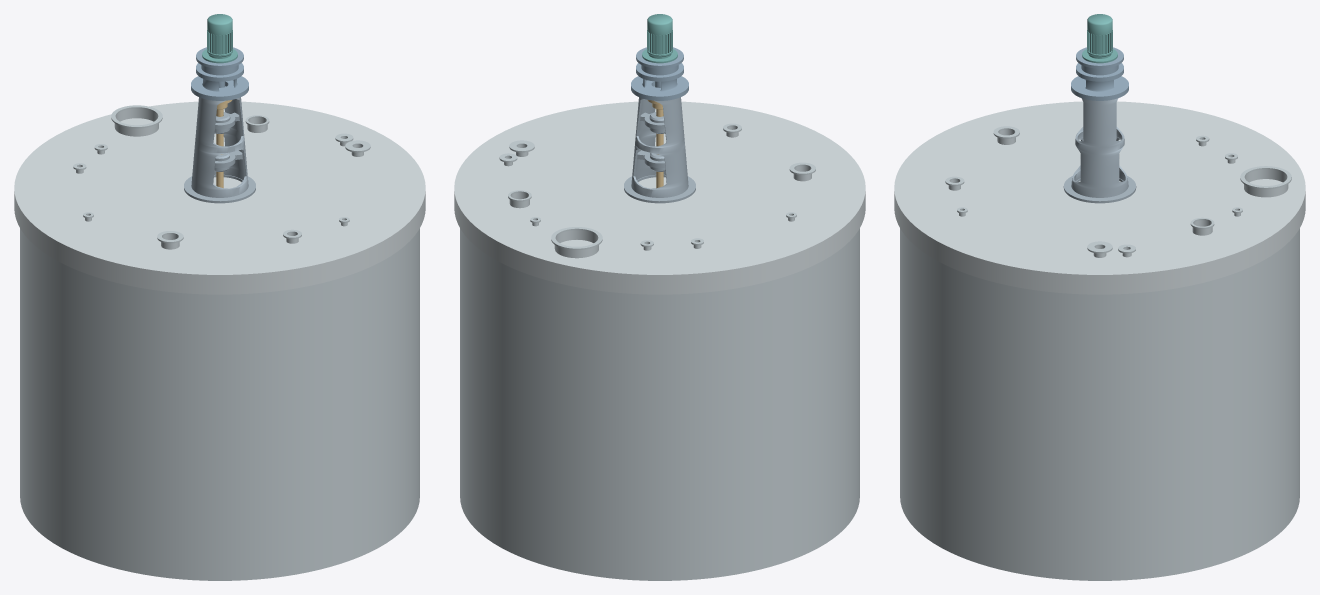
3 renders of one model, left to right at view 1: azimuth 30°, elevation 25°; view 2: azimuth 150°, elevation 25°; view 3: azimuth 270°, elevation 25°, orthographic.
Visible parts, largest first — view 1: Tank_shell, Tank_cover_lid, 06_Tapered_window_frame_with_bored_seats, 01_Motor, 接口_顶盖接管07, 02_Base_flange_top, 06_Frame_foot; view 2: Tank_shell, Tank_cover_lid, 06_Tapered_window_frame_with_bored_seats, 01_Motor, 02_Base_flange_top, 接口_顶盖接管07, 06_Frame_foot; view 3: Tank_shell, Tank_cover_lid, 06_Tapered_window_frame_with_bored_seats, 01_Motor, 接口_顶盖接管07, 02_Base_flange_top, 06_Frame_foot.
Boxes of the visible parts, x1,y1,x2,y2 form: Tank_shell: (20, 228, 419, 580); Tank_cover_lid: (14, 101, 425, 294); 06_Tapered_window_frame_with_bored_seats: (191, 86, 248, 197); 01_Motor: (202, 14, 237, 63); 接口_顶盖接管07: (114, 108, 158, 136); 02_Base_flange_top: (191, 76, 248, 98); 06_Frame_foot: (184, 174, 255, 203); Tank_shell: (460, 228, 859, 580); Tank_cover_lid: (454, 101, 865, 294); 06_Tapered_window_frame_with_bored_seats: (631, 86, 688, 197); 01_Motor: (642, 14, 677, 63); 02_Base_flange_top: (631, 76, 688, 98); 接口_顶盖接管07: (554, 230, 598, 258); 06_Frame_foot: (624, 174, 695, 203); Tank_shell: (900, 228, 1299, 580); Tank_cover_lid: (894, 101, 1305, 294); 06_Tapered_window_frame_with_bored_seats: (1071, 98, 1128, 197); 01_Motor: (1082, 14, 1117, 63); 接口_顶盖接管07: (1244, 169, 1288, 197); 02_Base_flange_top: (1071, 76, 1128, 98); 06_Frame_foot: (1063, 176, 1136, 203).
Size of the model in its own units: 6.07 by 7.78 by 6.07.
